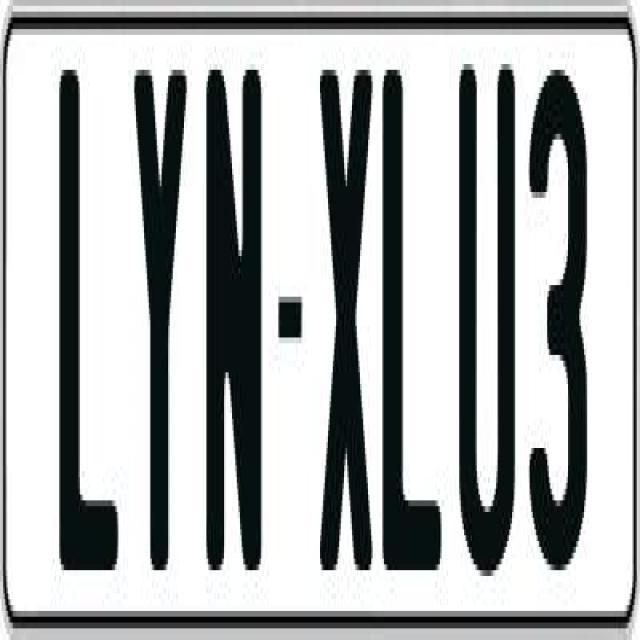3: (528, 64, 590, 600)
L: (59, 52, 128, 552), (378, 70, 439, 582)
N: (206, 64, 264, 600)
U: (460, 64, 519, 582)
X: (318, 52, 380, 582)
Y: (133, 58, 186, 582)
